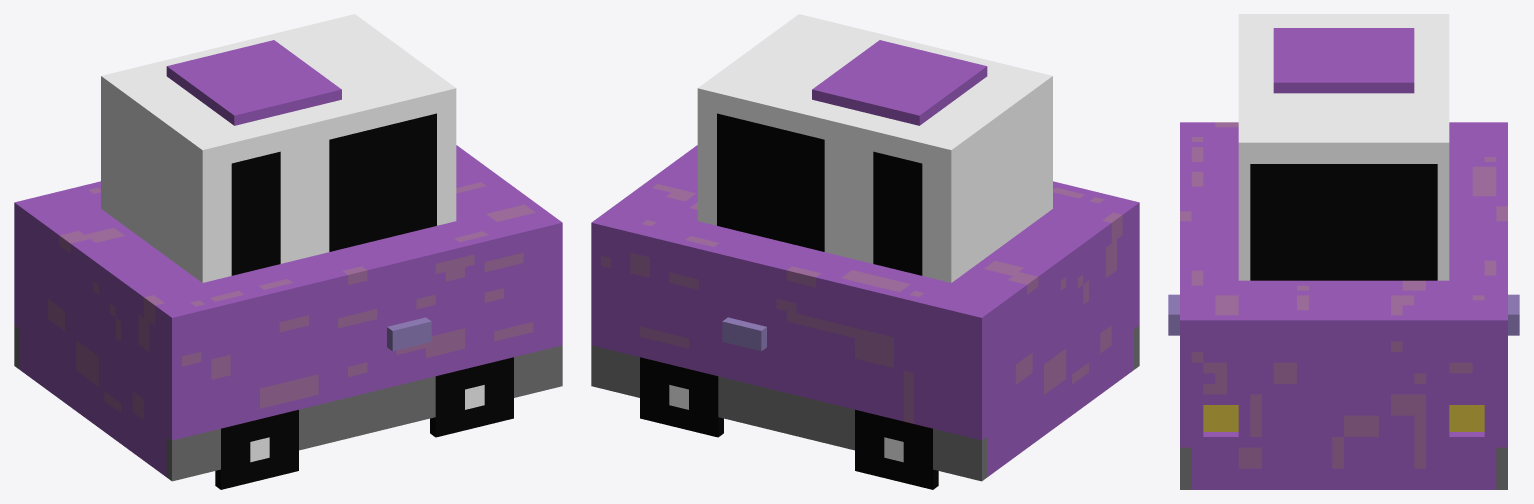
The model's file is coche_lila.obj.
The picture shows the model from 3 angles, left to right: view 1: azimuth 30°, elevation 25°; view 2: azimuth 150°, elevation 25°; view 3: azimuth 270°, elevation 25°; orthographic projection. The views are drawn at different scales.
Size of the model in its own units: 40 by 32 by 30.
1 material, 1 textured.
